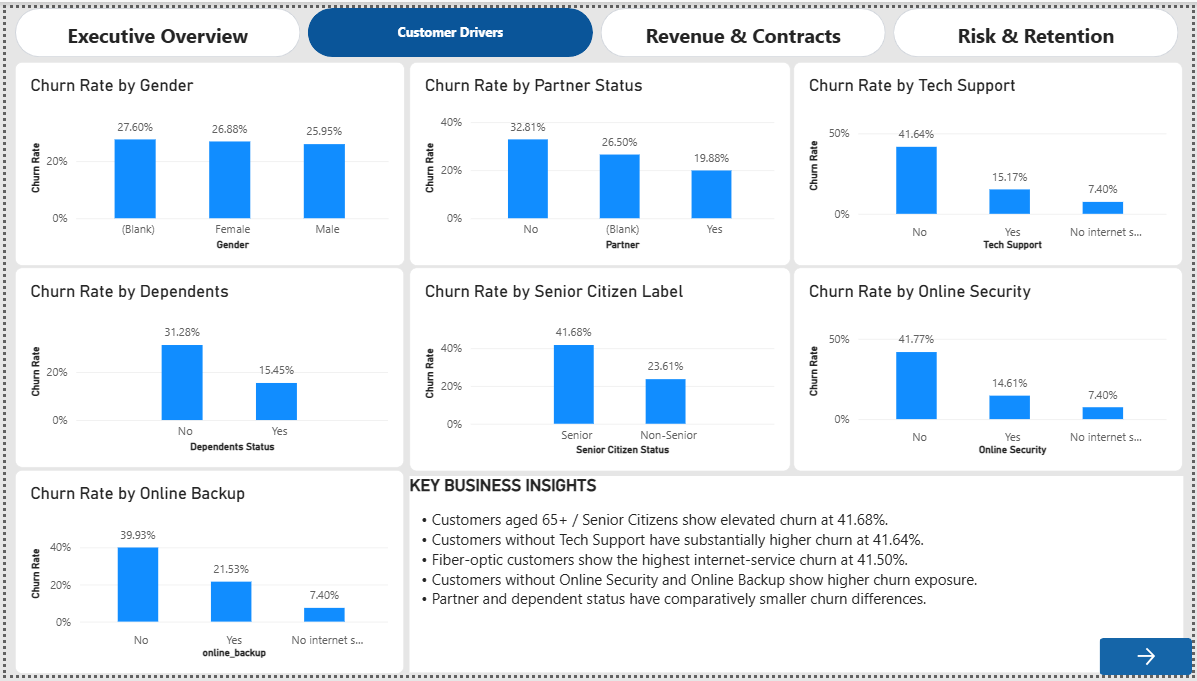

This screenshot's page, from the dashboard's own definition file:
{"tool":"powerbi","page":{"name":"Customer Drivers","canvas":[1280,720],"ordinal":1},"visuals":[{"type":"clusteredColumnChart","title":"Churn Rate by Gender","fields":{"Category":["telecom_churn vw_customer_churn_analysis.gender"],"Y":["_Measures.Churn Rate"]},"box":[9,58.3,421,220],"z":0},{"type":"clusteredColumnChart","fields":{"Category":["telecom_churn vw_customer_churn_analysis.Senior Citizen Label"],"Y":["_Measures.Churn Rate"]},"box":[436,280.1,411,220],"z":1000},{"type":"clusteredColumnChart","title":"Churn Rate by Partner Status","fields":{"Category":["telecom_churn vw_customer_churn_analysis.partner"],"Y":["_Measures.Churn Rate"]},"box":[436,58.8,411,220],"z":2000},{"type":"clusteredColumnChart","title":"Churn Rate by Dependents","fields":{"Category":["telecom_churn vw_customer_churn_analysis.dependents"],"Y":["_Measures.Churn Rate"]},"box":[9,280.1,420,216],"z":3000},{"type":"clusteredColumnChart","title":"Churn Rate by Tech Support","fields":{"Y":["_Measures.Churn Rate"],"Category":["telecom_churn vw_customer_churn_analysis.tech_support"]},"box":[850.1,58.3,420,220.2],"z":4000},{"type":"clusteredColumnChart","title":"Churn Rate by Online Security","fields":{"Category":["telecom_churn vw_customer_churn_analysis.online_security"],"Y":["_Measures.Churn Rate"]},"box":[850,280,420,220],"z":5000},{"type":"clusteredColumnChart","title":"Churn Rate by Online Backup","fields":{"Category":["telecom_churn vw_customer_churn_analysis.online_backup"],"Y":["_Measures.Churn Rate"]},"box":[9,499,420,220],"z":6000},{"type":"textbox","title":"KEY BUSINESS INSIGHTS","box":[436,505.2,835.5,212.1],"z":7000},{"type":"pageNavigator","box":[9.7,0,1259.8,53.4],"z":8000},{"type":"actionButton","box":[1180,680,100,40],"z":9000}]}

Visuals, with their boxes in screenshot pixels (x1, y1, x2, y2), scaled from the page's 1280x720 canvas onto the 1197x681 screenshot:
"Churn Rate by Gender" clusteredColumnChart: select_region(8, 55, 402, 263)
clusteredColumnChart - telecom_churn vw_customer_churn_analysis.Senior Citizen Label x _Measures.Churn Rate: select_region(408, 265, 792, 473)
"Churn Rate by Partner Status" clusteredColumnChart: select_region(408, 56, 792, 264)
"Churn Rate by Dependents" clusteredColumnChart: select_region(8, 265, 401, 469)
"Churn Rate by Tech Support" clusteredColumnChart: select_region(795, 55, 1188, 263)
"Churn Rate by Online Security" clusteredColumnChart: select_region(795, 265, 1188, 473)
"Churn Rate by Online Backup" clusteredColumnChart: select_region(8, 472, 401, 680)
"KEY BUSINESS INSIGHTS" textbox: select_region(408, 478, 1189, 678)
pageNavigator: select_region(9, 0, 1187, 51)
actionButton: select_region(1103, 643, 1196, 680)
